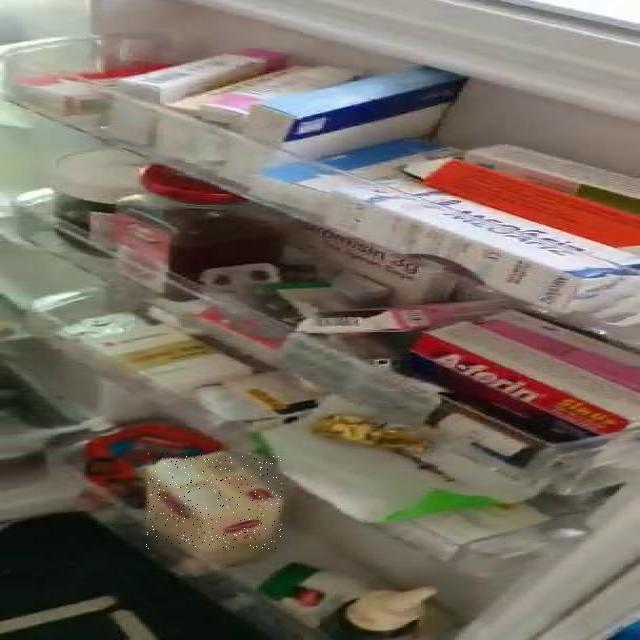eggs: (145, 453, 284, 549)
